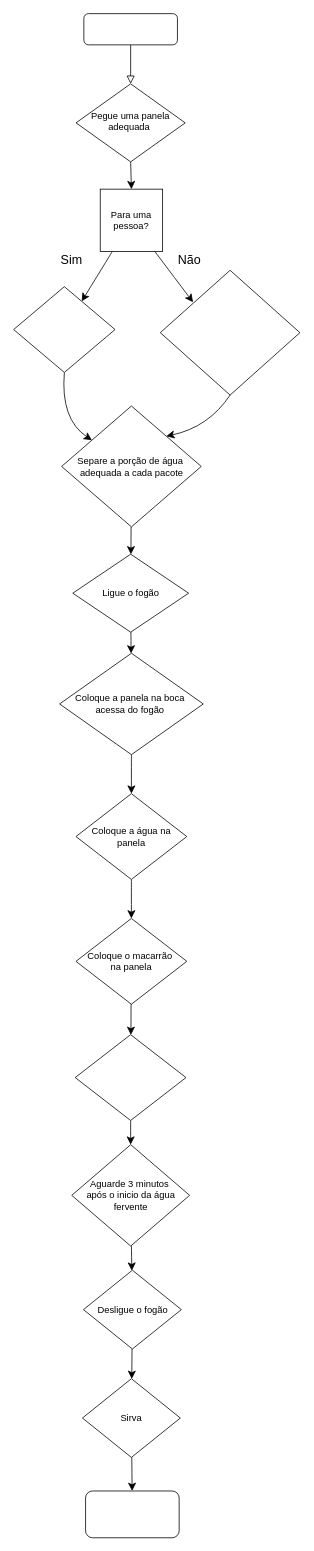
The diagram is 314 pixels wide and 1551 high, and some of its shapes have lost their labels. Each missing label, with the centre of its shape:
"Coloque o tempero no macarrão" goes at point (130, 1077).
"FIM" goes at point (132, 1514).
"Início" goes at point (130, 29).
"Pegue a quantidade de pacotes de macarrão igual ao número de pessoas" goes at point (230, 332).
"Pegue um pacote de macarrão" goes at point (64, 329).
